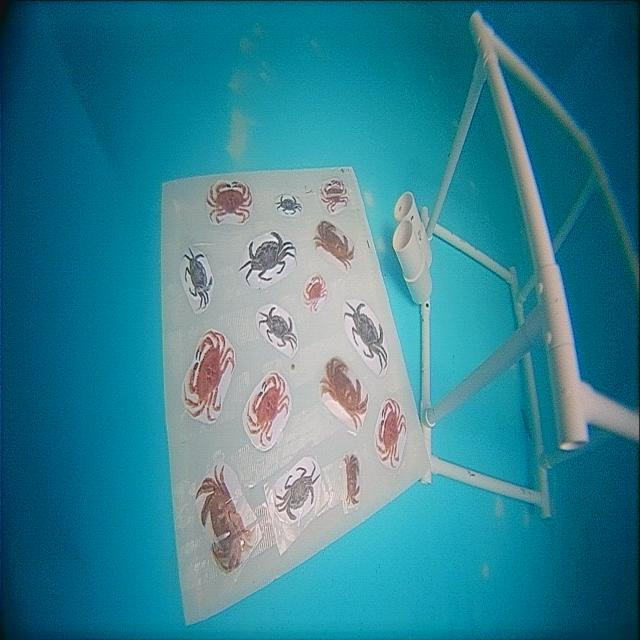GreenCrab: (344, 303, 387, 372), (239, 232, 296, 283), (276, 463, 320, 520), (184, 248, 213, 308)
